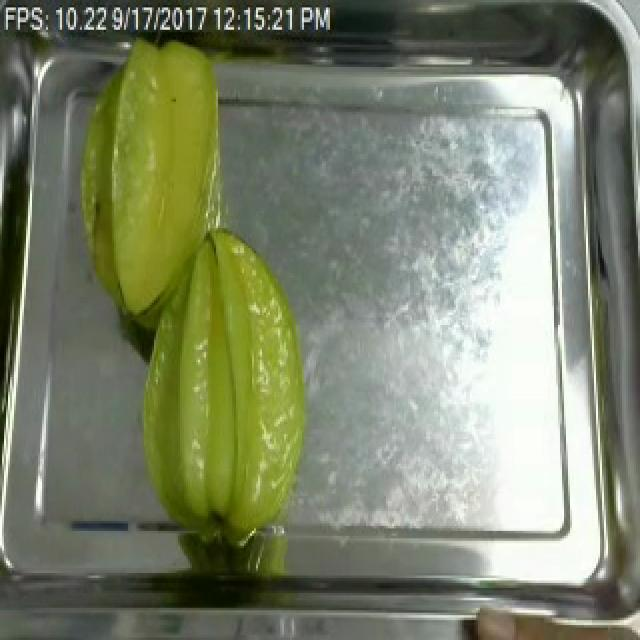fruit: (116, 215, 320, 556), (66, 30, 236, 340)
